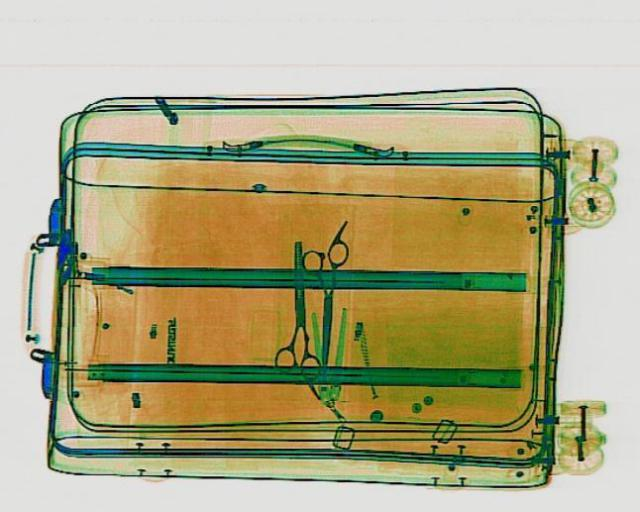Scissors: (272, 239, 322, 379), (297, 240, 349, 370)
